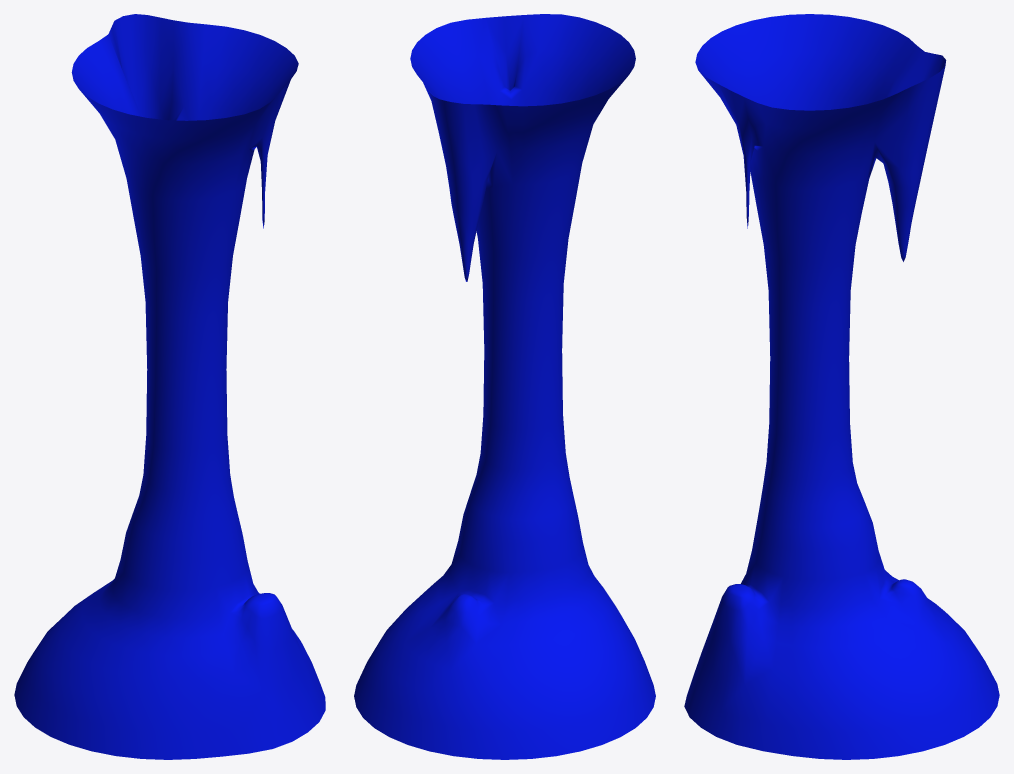
The model's file is Cave_Pillar.fbx.
The picture shows the model from 3 angles, left to right: view 1: azimuth 30°, elevation 25°; view 2: azimuth 150°, elevation 25°; view 3: azimuth 270°, elevation 25°; orthographic projection.
Parts seen in each view (by area): view 1: Cave_V1; view 2: Cave_V1; view 3: Cave_V1.
Boxes of the visible parts, x1,y1,x2,y2 form: Cave_V1: (14,14,325,759); Cave_V1: (354,14,655,759); Cave_V1: (684,14,999,759).
Size of the model in its own units: 83.71 by 86.21 by 192.
